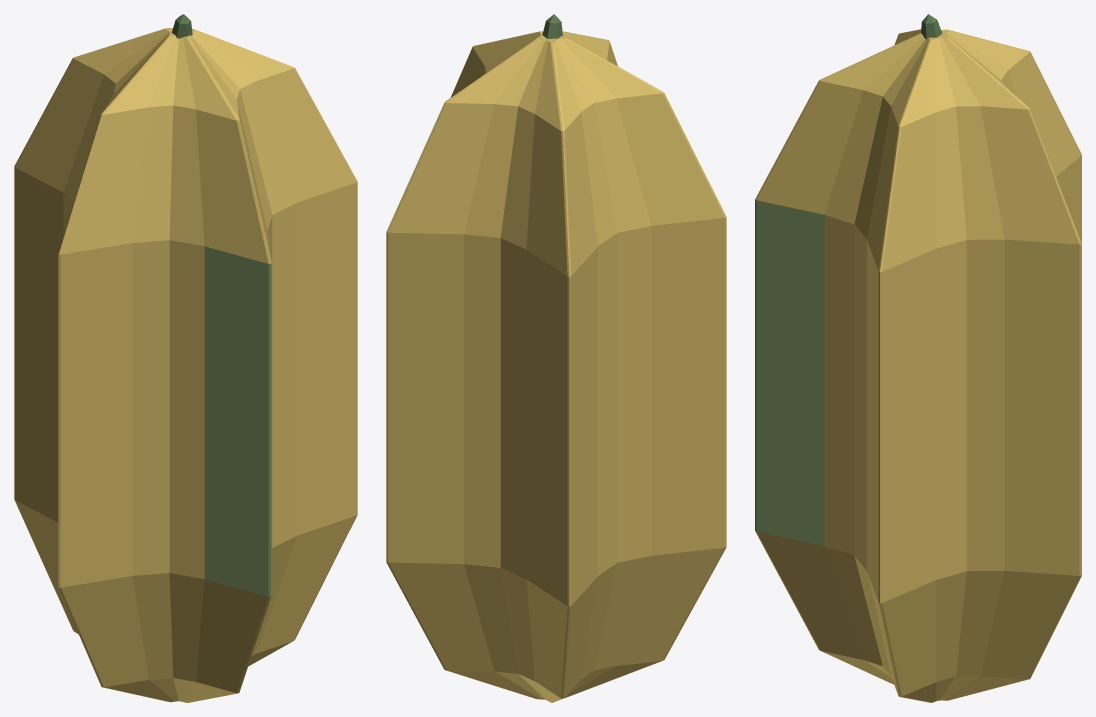
The model's file is starfruit.glb.
3 views of the same model, side by side, from view 1: azimuth 30°, elevation 25°; view 2: azimuth 150°, elevation 25°; view 3: azimuth 270°, elevation 25° (orthographic).
Parts seen in each view (by area): view 1: starfruit; view 2: starfruit; view 3: starfruit.
Boxes of the visible parts, x1,y1,x2,y2 form: starfruit: [14, 14, 357, 702]; starfruit: [386, 14, 726, 702]; starfruit: [755, 14, 1081, 702].
Bounding box in the file's own units: 0.047 × 0.103 × 0.0447.
